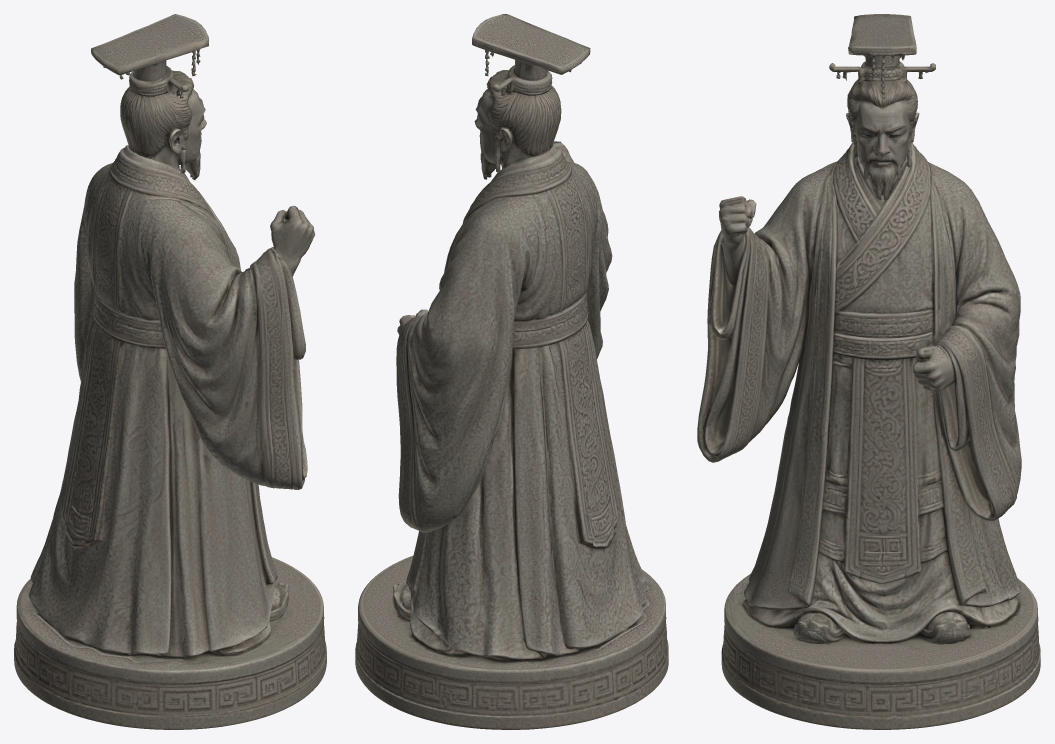
The model's file is ancient_chinese_emperor_statue_3d_model.fbx.
The picture shows the model from 3 angles, left to right: view 1: azimuth 30°, elevation 25°; view 2: azimuth 150°, elevation 25°; view 3: azimuth 270°, elevation 25°; orthographic projection.
Visible parts, largest first — view 1: tripo_node_8ee7c2b9; view 2: tripo_node_8ee7c2b9; view 3: tripo_node_8ee7c2b9.
Part boxes in pixels (left/top/right/bottom): tripo_node_8ee7c2b9: left=14, top=14, right=326, bottom=729; tripo_node_8ee7c2b9: left=355, top=14, right=668, bottom=729; tripo_node_8ee7c2b9: left=697, top=14, right=1040, bottom=729.
Bounding box in the file's own units: 0.4356 × 0.9799 × 0.4819.
